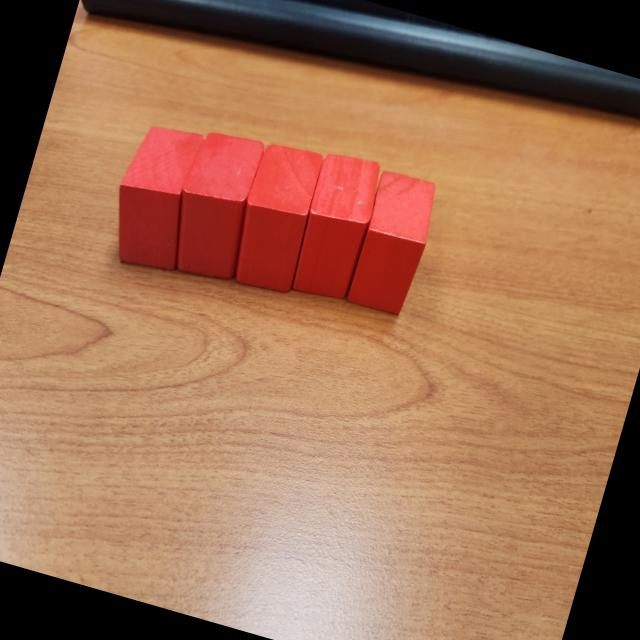red: (160, 122, 273, 286), (98, 115, 212, 276), (222, 138, 330, 300), (285, 146, 387, 306), (342, 166, 442, 319)
